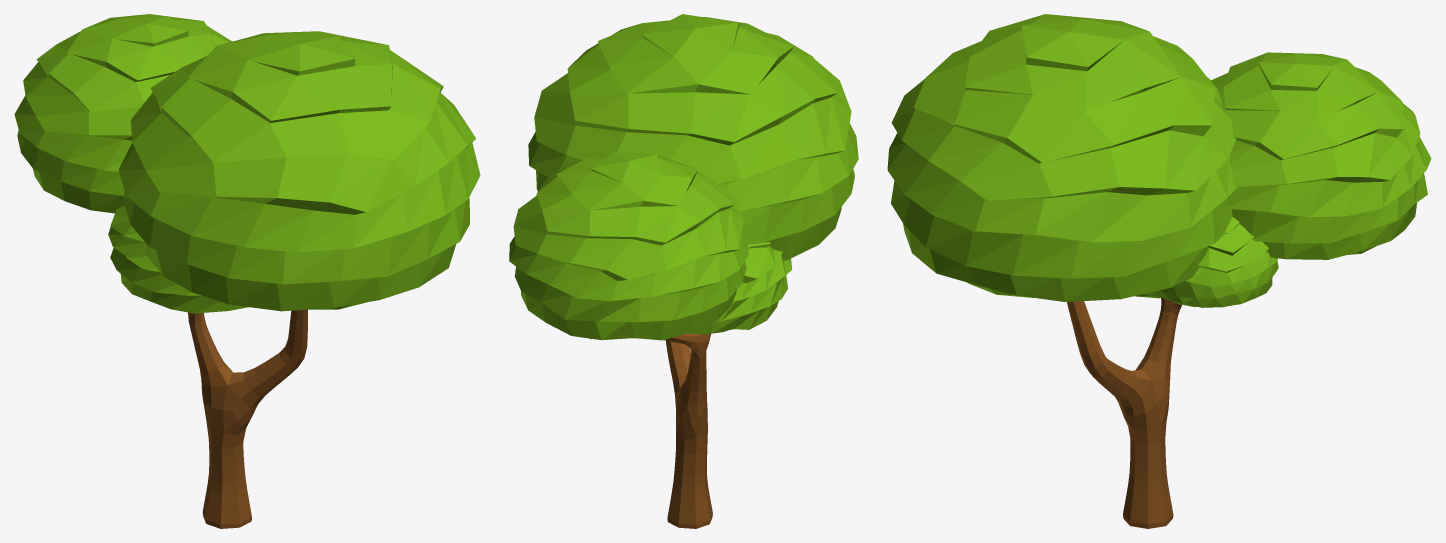
File: TreeNormal.glb
3 renders of one model, left to right at view 1: azimuth 30°, elevation 25°; view 2: azimuth 150°, elevation 25°; view 3: azimuth 270°, elevation 25°, orthographic. The views are drawn at different scales.
Visible parts, largest first — view 1: TreeTop, TreeStem; view 2: TreeTop, TreeStem; view 3: TreeTop, TreeStem.
Part boxes in pixels (x1,y1,x2,y2): TreeTop: (14, 14, 480, 313); TreeStem: (188, 309, 307, 528); TreeTop: (509, 14, 858, 340); TreeStem: (664, 333, 712, 528); TreeTop: (887, 14, 1431, 307); TreeStem: (1067, 298, 1181, 528).
Bounding box in the file's own units: 4.02 × 6.05 × 5.93.
Materials: 2 (2 with a texture image).
